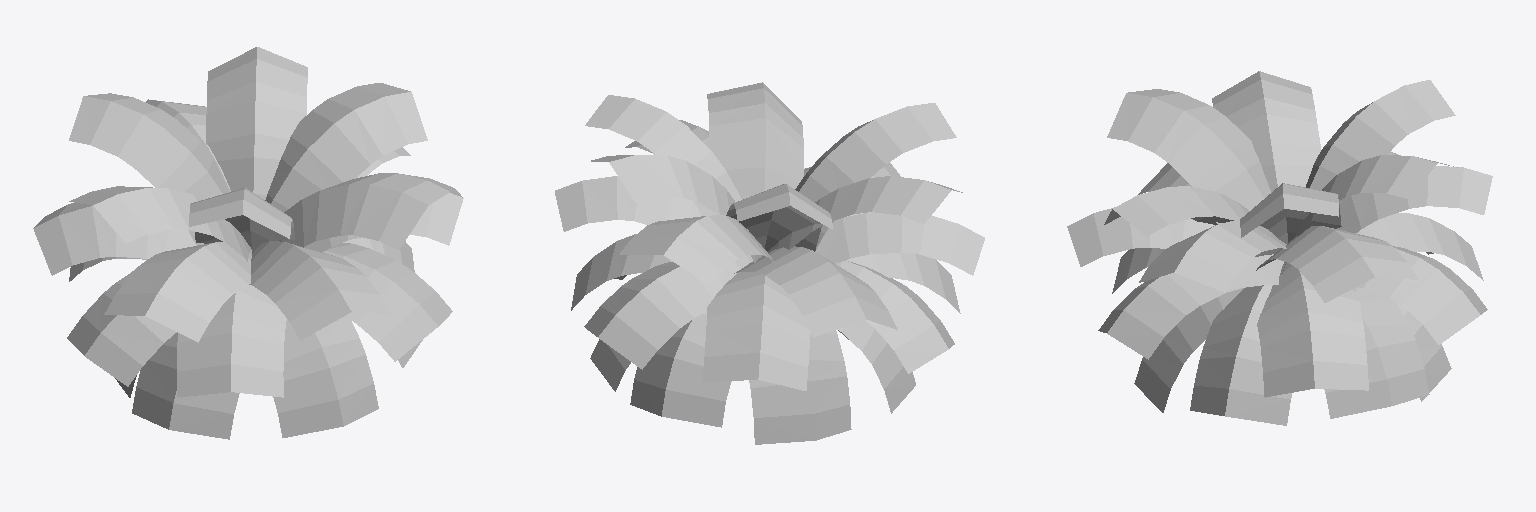
File: palm_topd_final.obj
3 views of the same model, side by side, from view 1: azimuth 30°, elevation 25°; view 2: azimuth 150°, elevation 25°; view 3: azimuth 270°, elevation 25° (orthographic).
Visible parts, largest first — view 1: free_palm.004; view 2: free_palm.004; view 3: free_palm.004.
Part boxes in pixels (x1,y1,x2,y2): free_palm.004: (33,47,463,439); free_palm.004: (555,82,984,444); free_palm.004: (1067,71,1492,425).
Bounding box in the file's own units: 7.07 × 5.02 × 7.3.